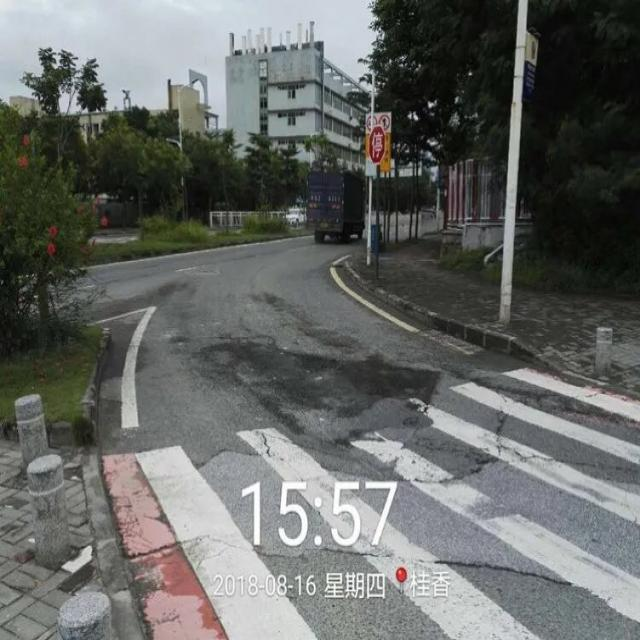Pothole: (312, 416, 513, 488), (204, 342, 247, 377)
